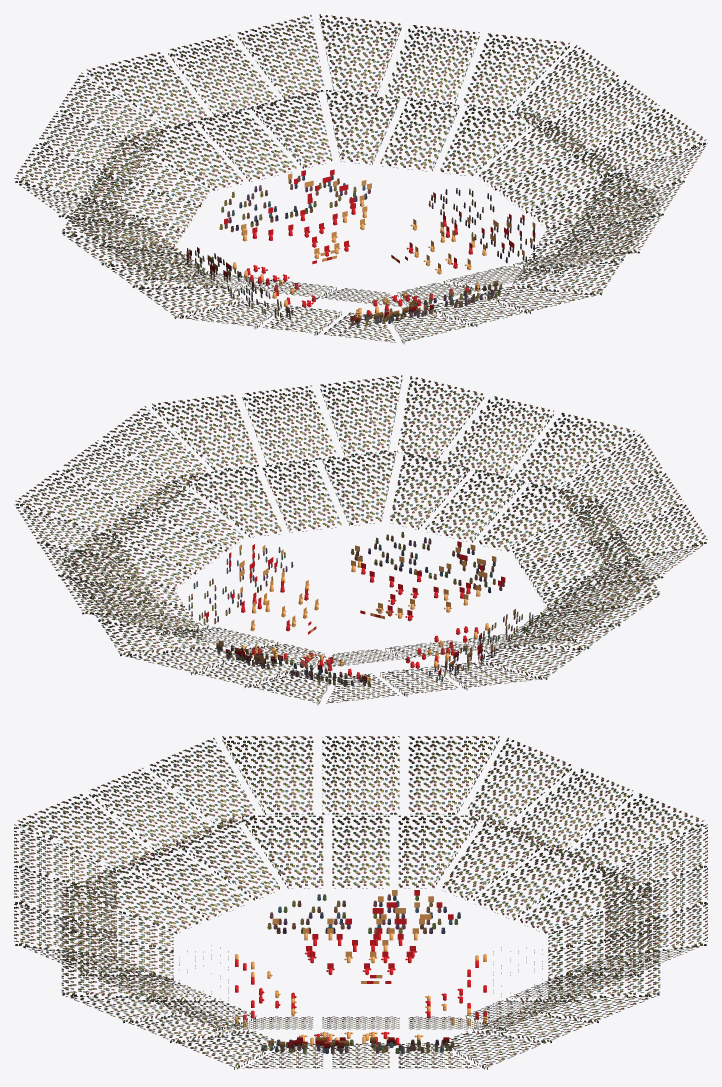
The model's file is box_avatar__box_avatarB.glb.
3 views of the same model, one above another, from view 1: azimuth 30°, elevation 25°; view 2: azimuth 150°, elevation 25°; view 3: azimuth 270°, elevation 25° (orthographic). The views are drawn at different scales.
Visible parts, largest first — view 1: polygon14, polygon13, polygon12, polygon6, polygon9, polygon3; view 2: polygon14, polygon13, polygon12, polygon6, polygon3, polygon9; view 3: polygon14, polygon13, polygon12, polygon6, polygon9, polygon3.
Part boxes in pixels (bbox=[...]): polygon14: bbox=[14, 14, 707, 344]; polygon13: bbox=[187, 175, 534, 327]; polygon12: bbox=[186, 169, 535, 323]; polygon6: bbox=[241, 200, 486, 320]; polygon9: bbox=[232, 227, 471, 306]; polygon3: bbox=[250, 223, 452, 313]; polygon14: bbox=[14, 375, 707, 705]; polygon13: bbox=[188, 531, 533, 686]; polygon12: bbox=[206, 541, 515, 681]; polygon6: bbox=[242, 561, 480, 681]; polygon3: bbox=[265, 597, 489, 666]; polygon9: bbox=[281, 576, 449, 675]; polygon14: bbox=[14, 736, 707, 1069]; polygon13: bbox=[179, 894, 542, 1053]; polygon12: bbox=[268, 890, 453, 1048]; polygon6: bbox=[235, 945, 486, 1045]; polygon9: bbox=[251, 933, 470, 1041]; polygon3: bbox=[267, 933, 454, 1040].
Size of the model in its own units: 774 by 162 by 774.
5 materials, 5 textured.
